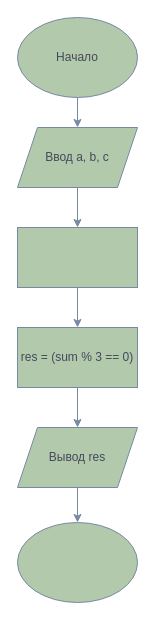
Some shapes in this 155 by 620 pixel diagram are drawn without their labels. Here are the shapes that lost their labels. From the top down, the centre of each, then its label:
At (77,257): "sum = a + b + c".
At (77,562): "Конец".
